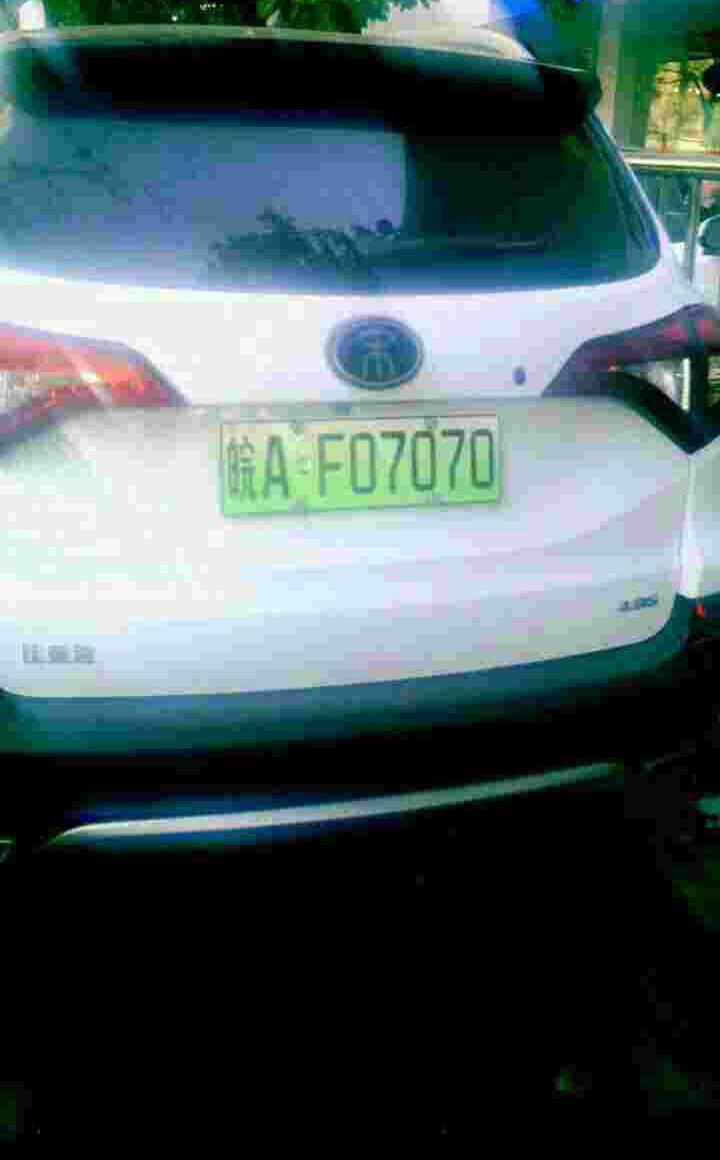car_id: (221, 414, 499, 513)
